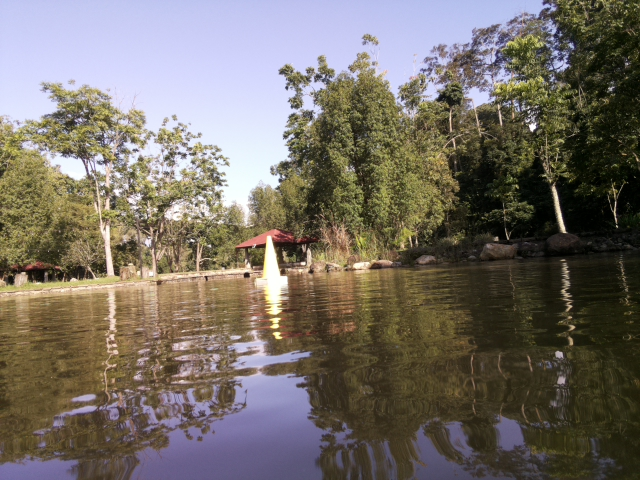checkpoint: (254, 236, 288, 286)
